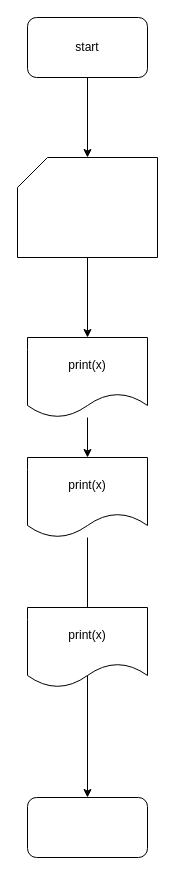
Some shapes in this 175 by 875 pixel diagram are drawn without their labels. Here are the shapes that lost their labels. From the top down, the centre of each, then its label:
At point 87,207: "x=int 'how old are you?18'".
At point 87,827: "end".
